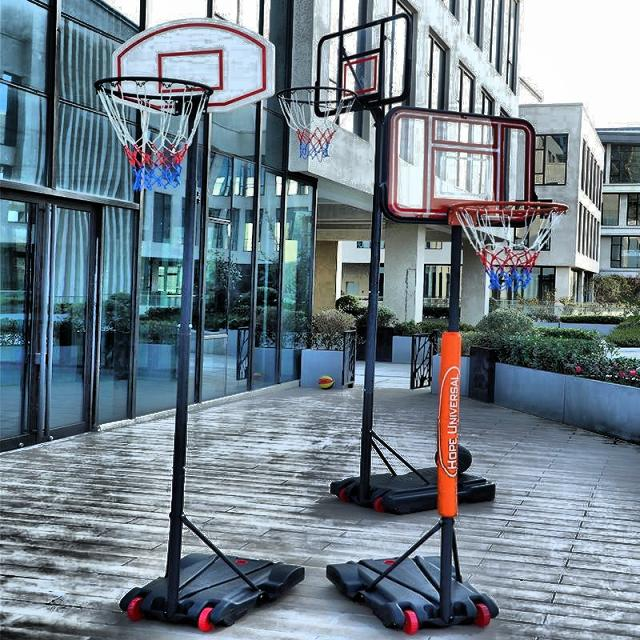rim: (94, 74, 212, 192), (450, 201, 569, 291), (276, 87, 354, 161)
